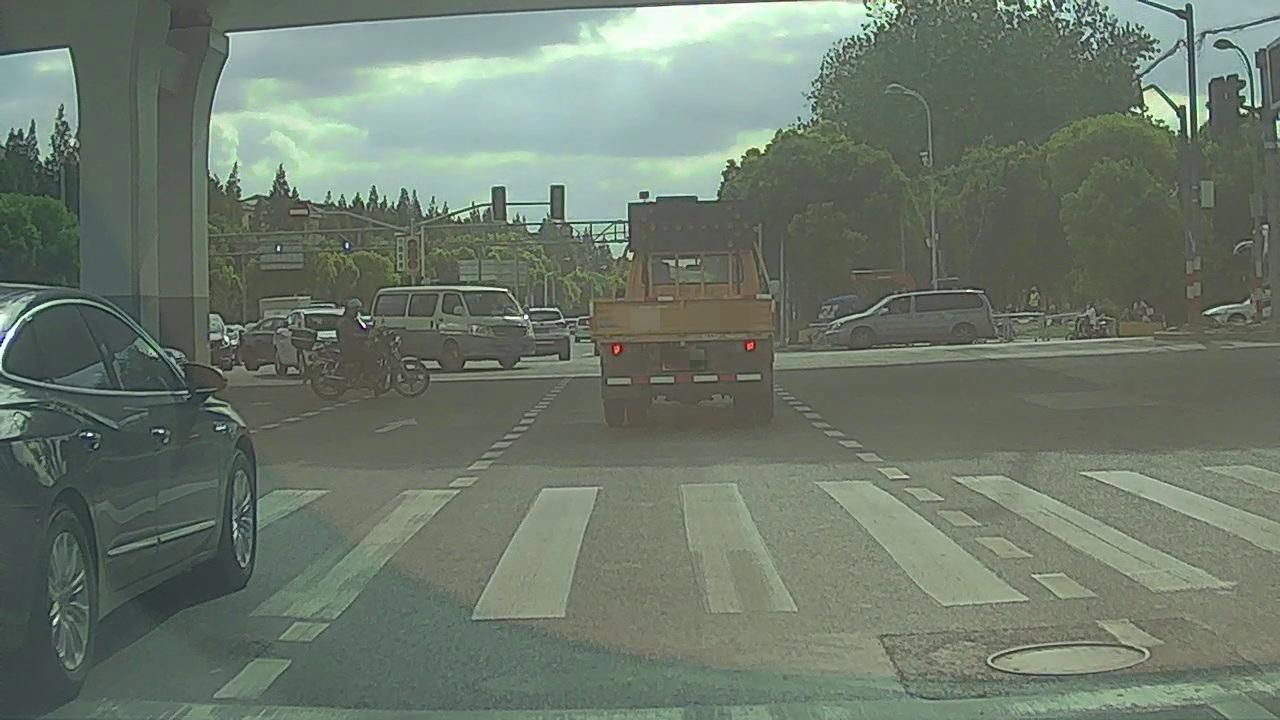traffic_light: (550, 186, 564, 219), (492, 187, 506, 219)
